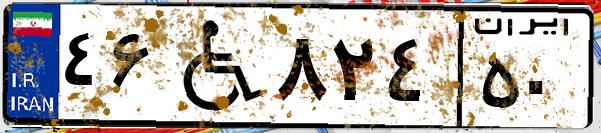0: (525, 38, 570, 115)
2: (330, 28, 385, 110)
4: (385, 28, 445, 110), (57, 26, 110, 100)
5: (475, 38, 525, 113)
6: (110, 28, 158, 98)
8: (270, 28, 330, 110)
ژ (معلولین و جانبازان): (158, 12, 270, 120)
